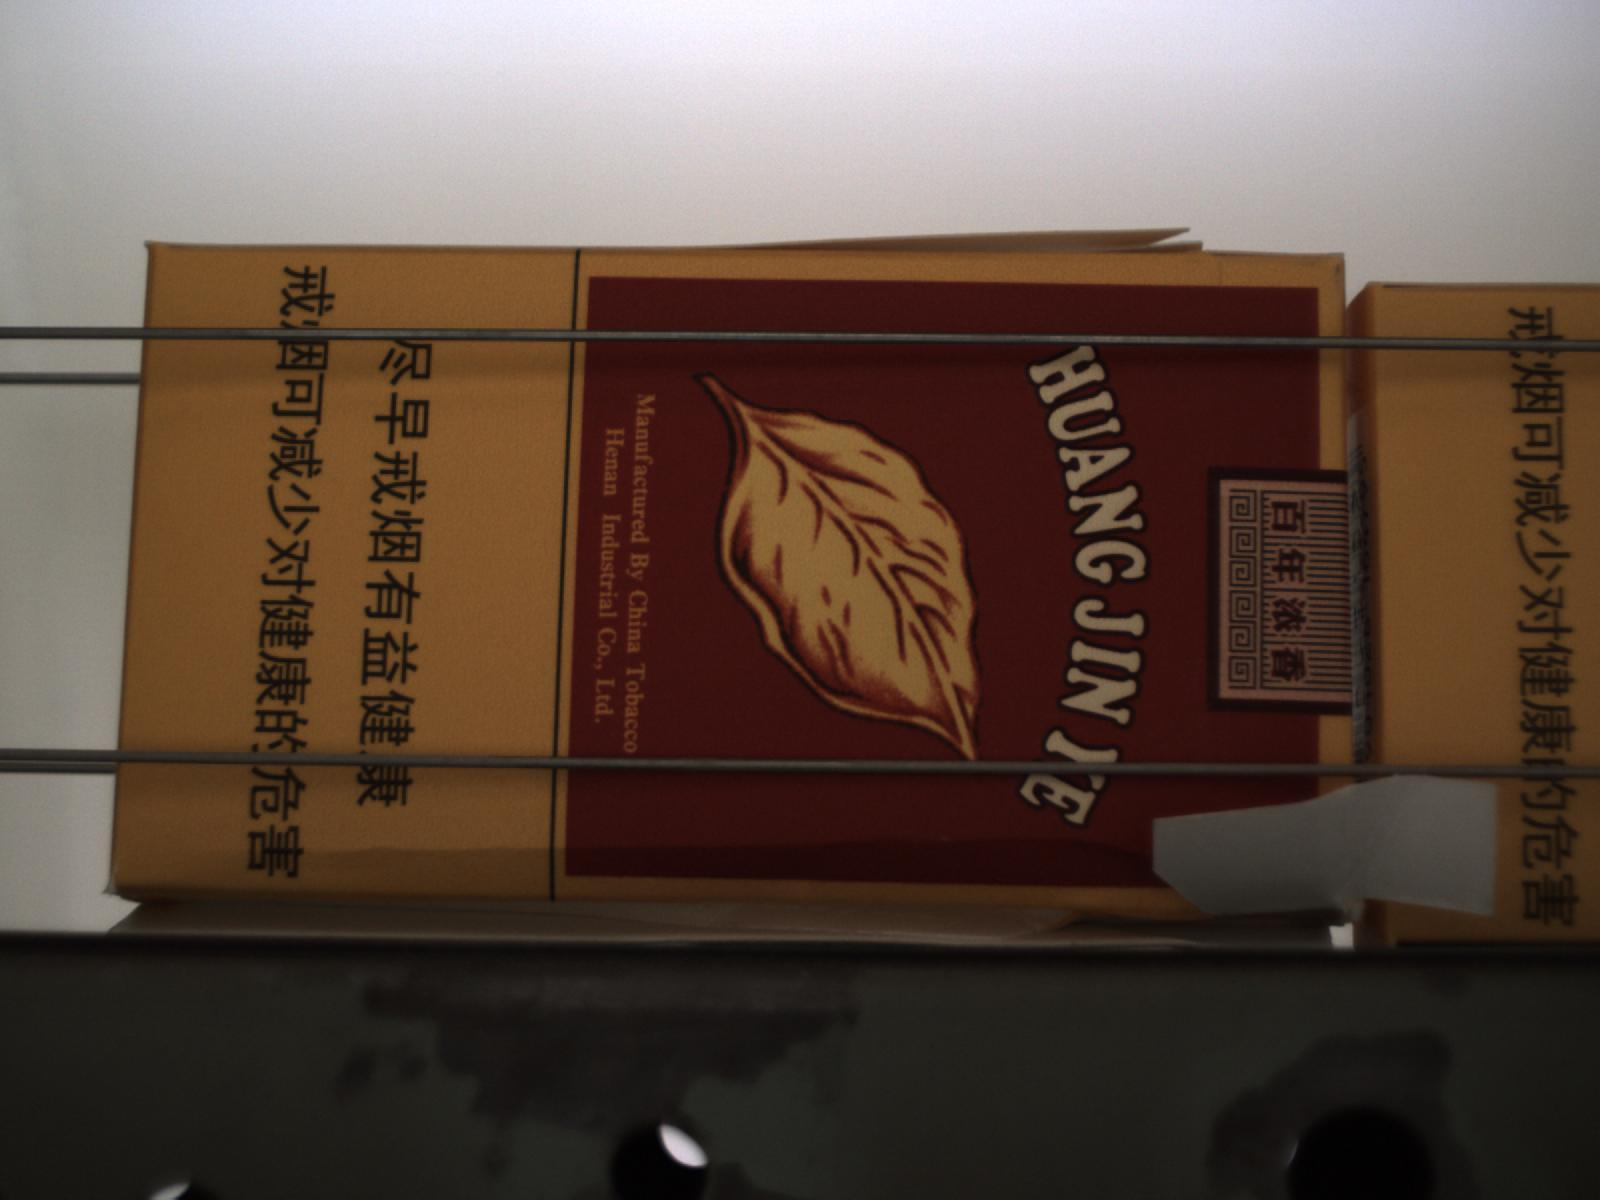bottomUpwarp_upper_1: (726, 227, 1204, 258)
boxDamage_back_heavy: (102, 834, 1262, 944)
frame: (1151, 773, 1500, 914)
